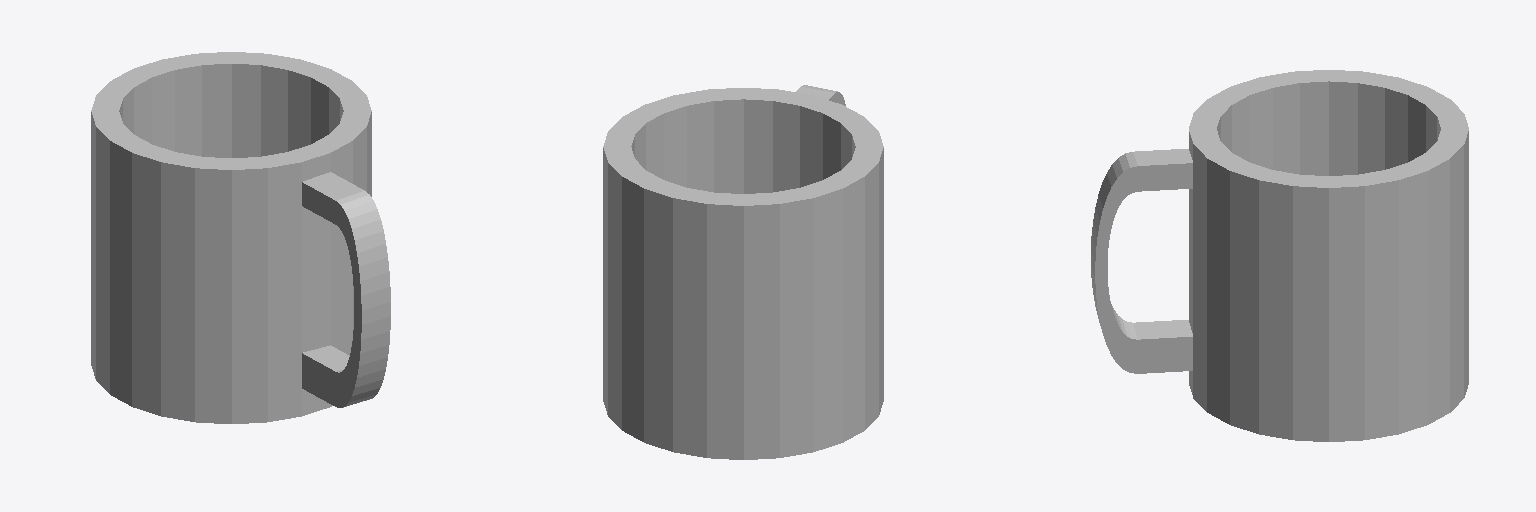
The model's file is cup.obj.
The picture shows the model from 3 angles: view 1: azimuth 30°, elevation 25°; view 2: azimuth 150°, elevation 25°; view 3: azimuth 270°, elevation 25°; orthographic projection.
Parts seen in each view (by area): view 1: Cylinder; view 2: Cylinder; view 3: Cylinder.
Boxes of the visible parts, x1,y1,x2,y2 form: Cylinder: [91, 52, 390, 423]; Cylinder: [603, 85, 883, 459]; Cylinder: [1091, 70, 1468, 441].
Bounding box in the file's own units: 1 × 1 × 1.35.